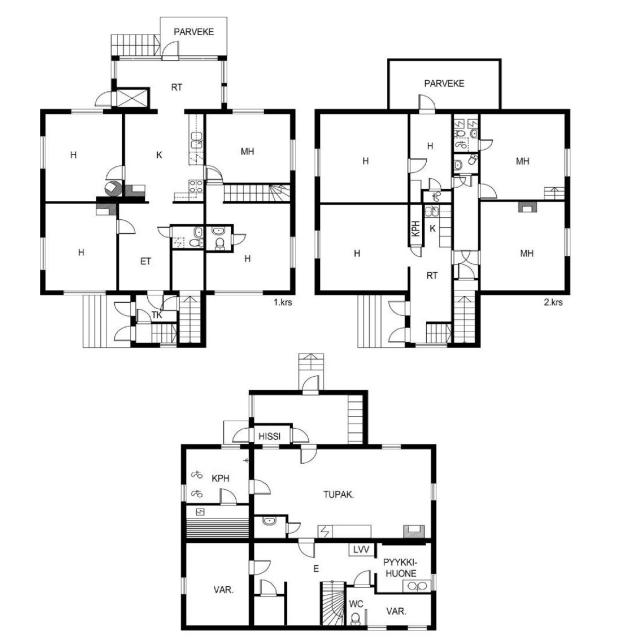door: (406, 110, 451, 184), (289, 428, 318, 453), (90, 90, 127, 108), (112, 216, 138, 238), (414, 92, 438, 115), (100, 164, 129, 183), (109, 322, 136, 342), (384, 325, 411, 344), (299, 374, 322, 396), (201, 163, 225, 184), (110, 299, 136, 318), (350, 568, 374, 588), (296, 537, 316, 561), (385, 298, 410, 317), (297, 444, 319, 465), (248, 478, 272, 497), (405, 155, 429, 174), (475, 181, 500, 199), (246, 558, 271, 576), (160, 40, 180, 62), (144, 290, 166, 310), (449, 246, 471, 266), (287, 426, 311, 444), (455, 263, 476, 283), (258, 578, 278, 598), (217, 487, 238, 506), (230, 427, 254, 443), (154, 223, 174, 241), (161, 294, 181, 312), (132, 307, 152, 324), (227, 231, 248, 247), (475, 137, 495, 152), (454, 173, 472, 189), (408, 243, 424, 260), (283, 520, 302, 534), (426, 176, 442, 192), (448, 177, 466, 190)
window: (209, 286, 269, 297), (216, 61, 230, 106), (59, 286, 108, 298), (36, 233, 49, 274), (176, 52, 220, 63), (36, 132, 48, 172), (227, 105, 269, 116), (312, 227, 324, 263), (66, 106, 109, 116), (312, 146, 324, 180), (561, 225, 573, 259), (115, 54, 160, 63), (287, 234, 298, 270), (561, 146, 573, 179), (287, 138, 298, 173), (411, 340, 449, 350), (363, 622, 390, 633), (178, 575, 190, 598), (378, 442, 404, 452), (108, 58, 119, 80), (428, 572, 440, 592), (156, 340, 180, 350), (405, 622, 429, 632), (177, 482, 188, 503), (246, 394, 255, 419), (428, 481, 438, 503), (216, 442, 240, 451), (258, 443, 281, 452)
zone: (251, 447, 434, 534), (316, 112, 408, 204), (478, 200, 568, 293), (316, 204, 409, 293), (476, 111, 567, 200), (208, 204, 295, 293), (123, 110, 205, 202), (42, 110, 124, 200), (42, 203, 117, 294), (200, 111, 294, 183), (388, 61, 508, 110), (184, 542, 252, 628), (112, 59, 224, 110), (254, 393, 368, 442), (117, 207, 170, 292), (183, 446, 250, 505), (408, 110, 454, 192), (340, 590, 435, 628), (375, 542, 433, 594), (182, 503, 252, 539), (452, 110, 480, 155), (251, 595, 286, 627), (251, 423, 291, 446), (252, 516, 288, 540), (170, 226, 204, 250), (204, 226, 231, 251), (452, 151, 480, 174), (420, 190, 452, 204)
